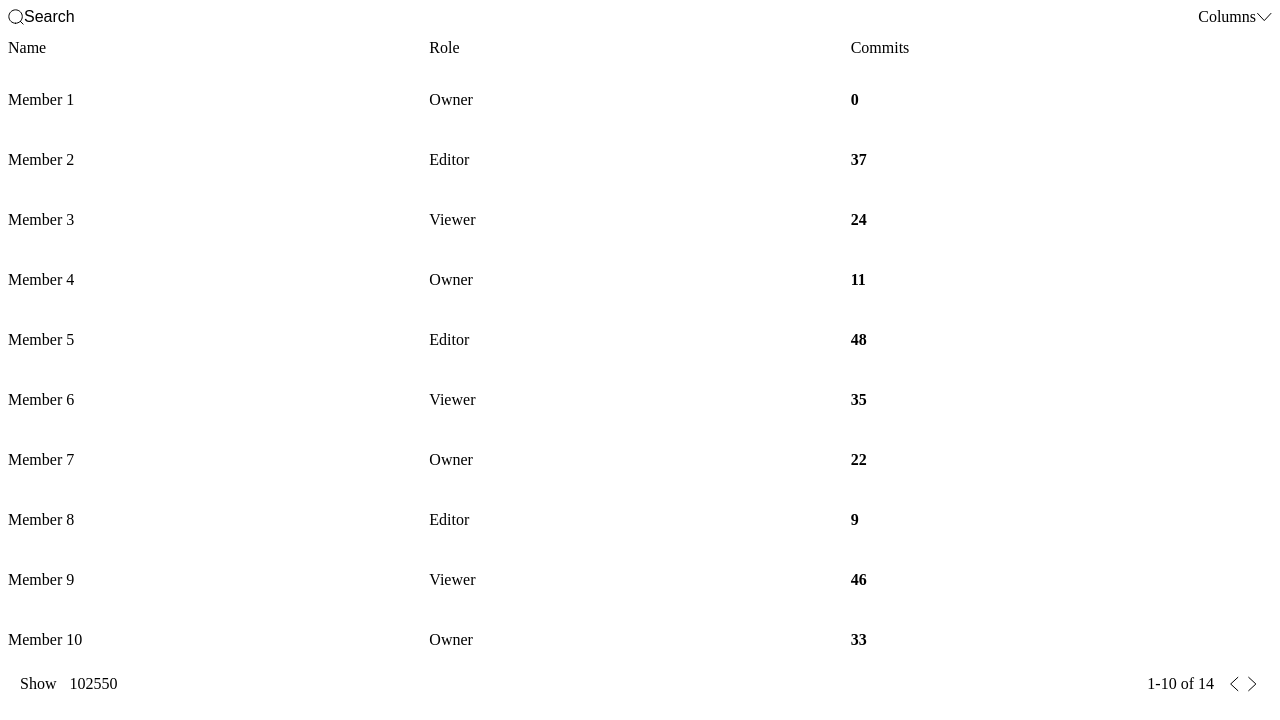
Test: DataTable › searches and announces the result count
The width and height of the screenshot is (1280, 720).
Type "owner" into the field named "Search Team members".
click(136, 17); type("owner")  # box [24,8,248,26]
Wait 500 ms
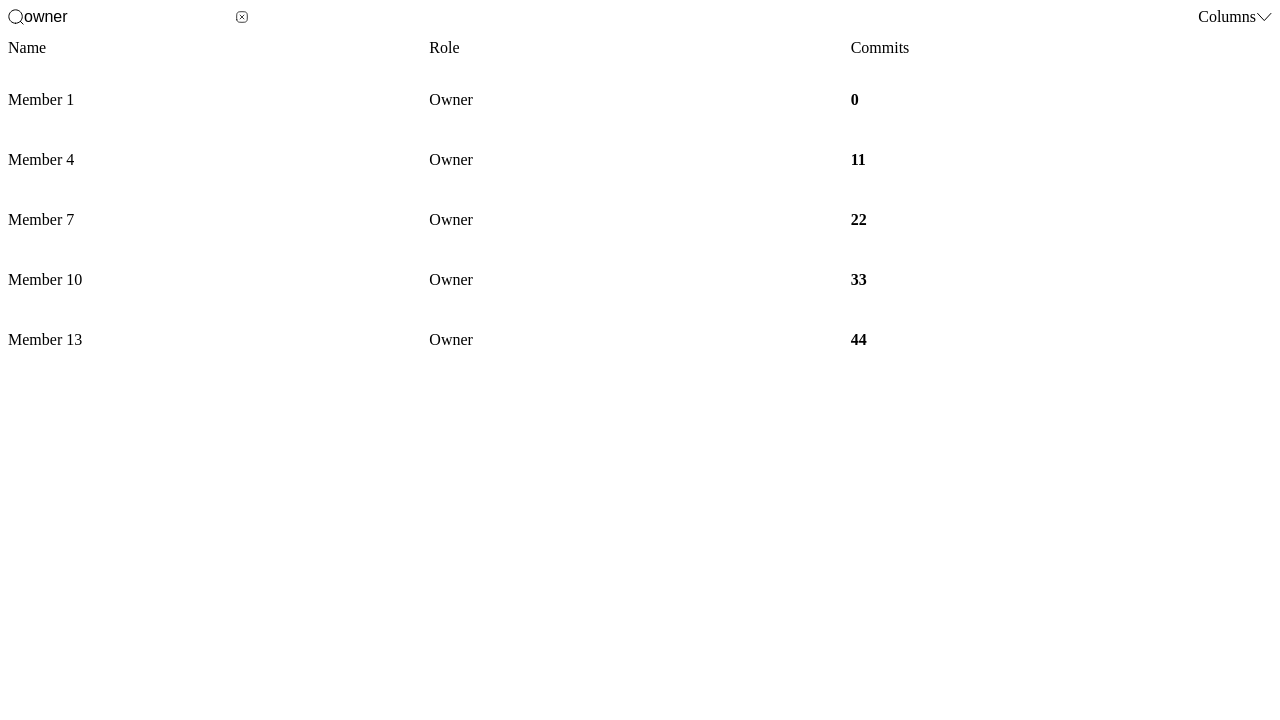
Type "zzz" into the field named "Search Team members".
click(130, 17); type("zzz")  # box [24,8,236,26]
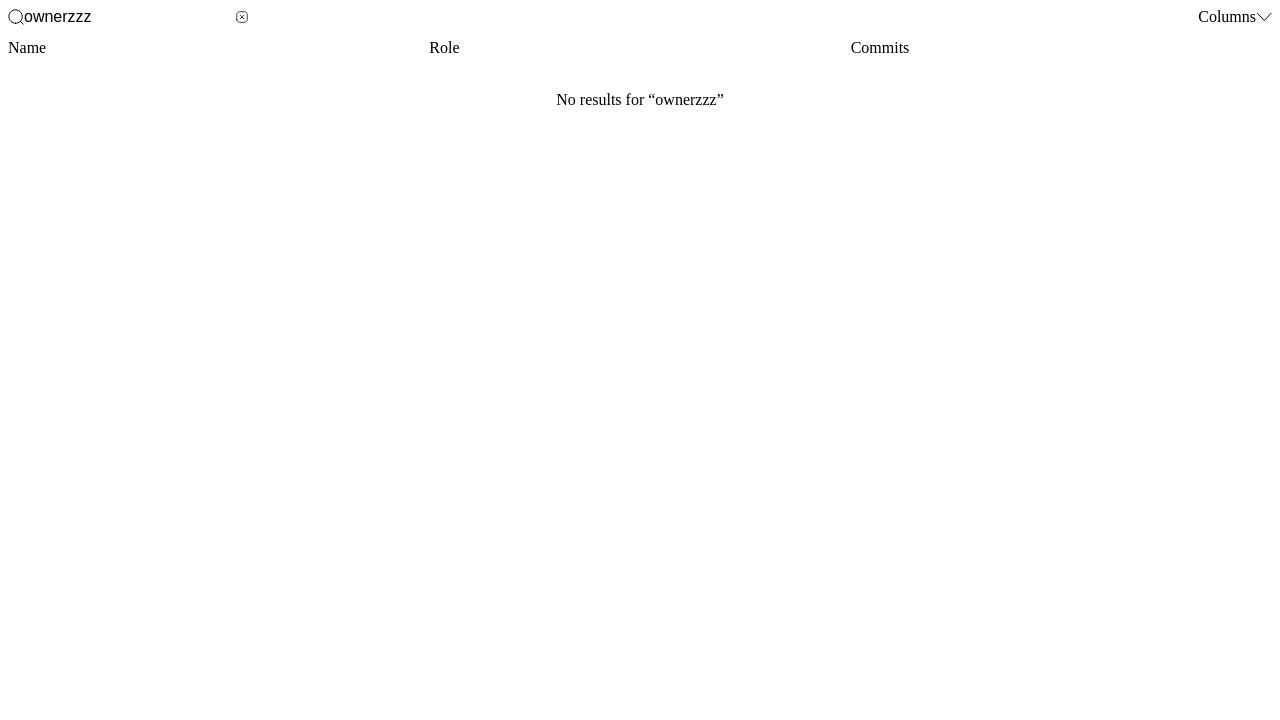
Expected: the text "No results for “ownerzzz”" is shown, [556,91,724,108]
